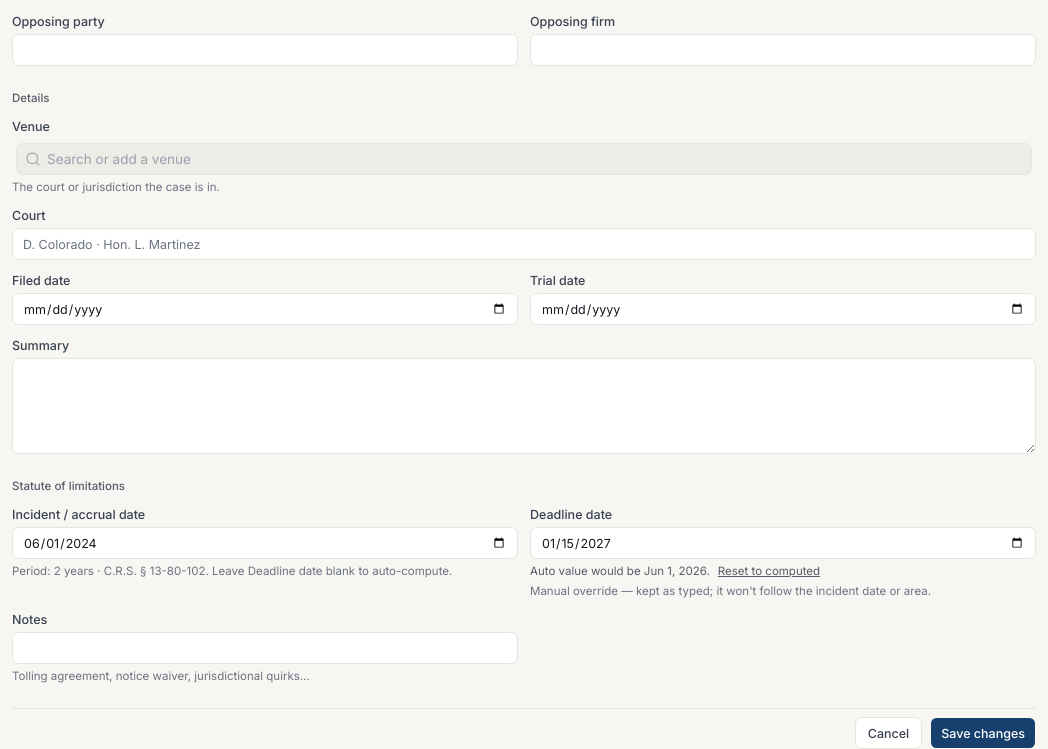
EditMatterForm — SOL auto vs override › a real manual override stays pre-filled and can be reset to computed
The image size is (1048, 749).
(page scrolled)
Check: the date field labelled "Deadline date" holds "2027-01-15", box [530,527,1036,559]
Check: the text "Manual override" is shown, box [530,584,931,598]
Click the button "Reset to computed" at (769, 571), box [718,563,820,579]
(page scrolled)
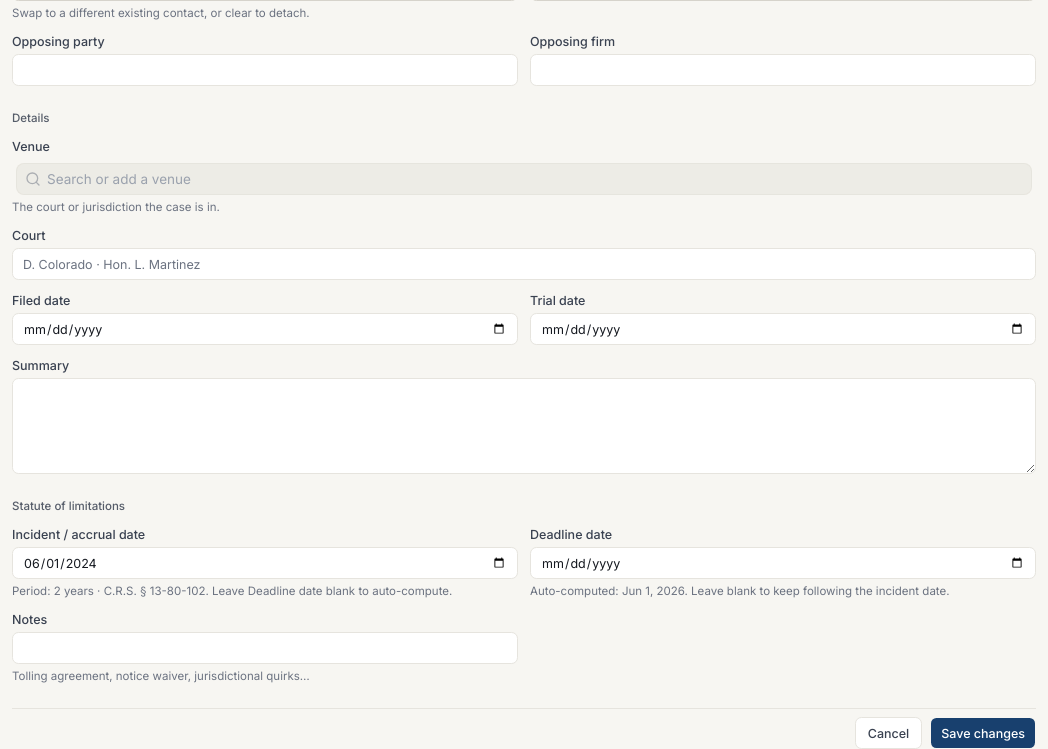
Check: the date field labelled "Deadline date" is empty, box [530,547,1036,579]
